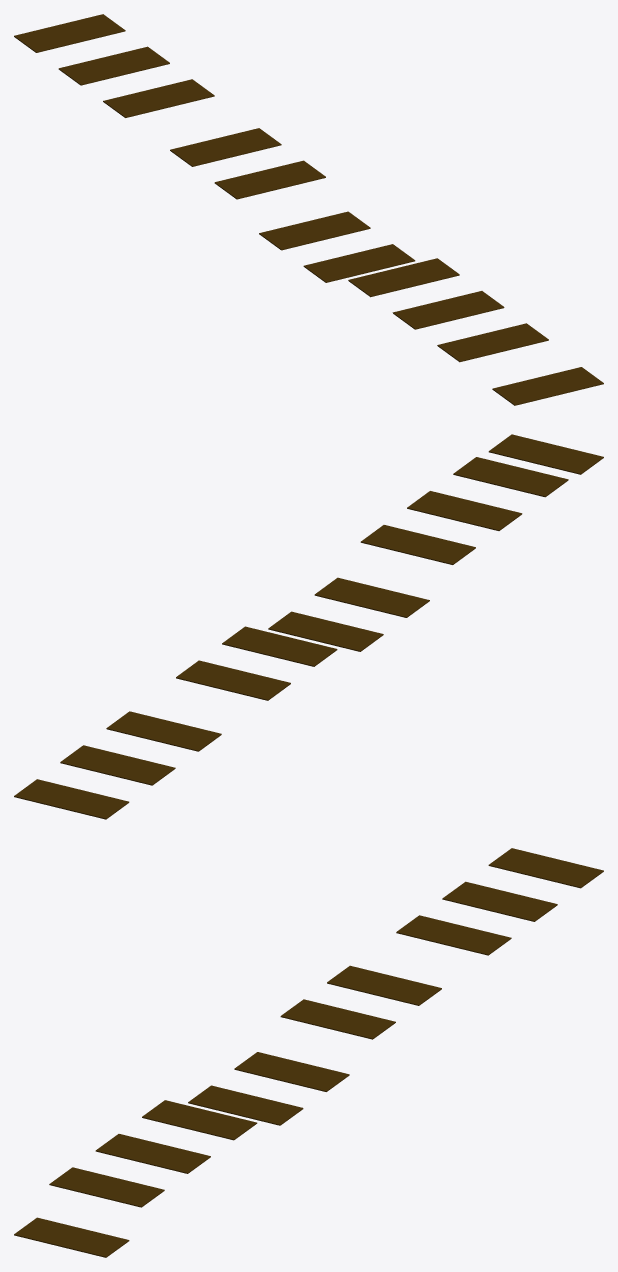
Rendered from Bridge.fbx.
3 views of the same model, one above another, from view 1: azimuth 30°, elevation 25°; view 2: azimuth 150°, elevation 25°; view 3: azimuth 330°, elevation 25° (orthographic). The views are drawn at different scales.
Parts seen in each view (by area): view 1: bridge; view 2: bridge; view 3: bridge.
Boxes of the visible parts, bbox=[...] form: bridge: bbox=[14, 14, 603, 405]; bridge: bbox=[14, 434, 603, 819]; bridge: bbox=[14, 848, 603, 1257].
Size of the model in its own units: 102 by 19.68 by 872.
